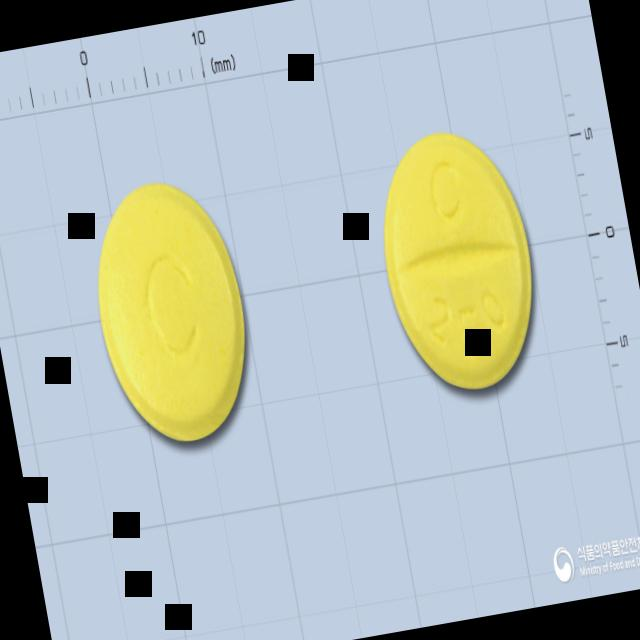Amocla: (79, 169, 266, 455), (366, 120, 553, 402)
